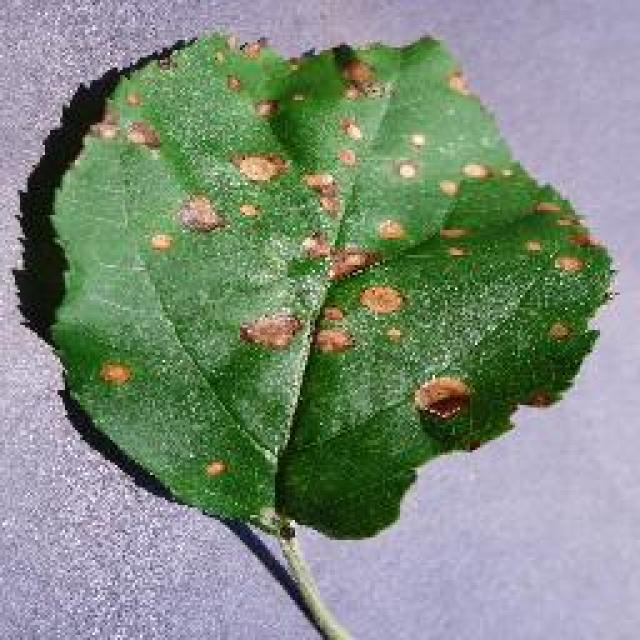Black_rot: (42, 25, 618, 543)
